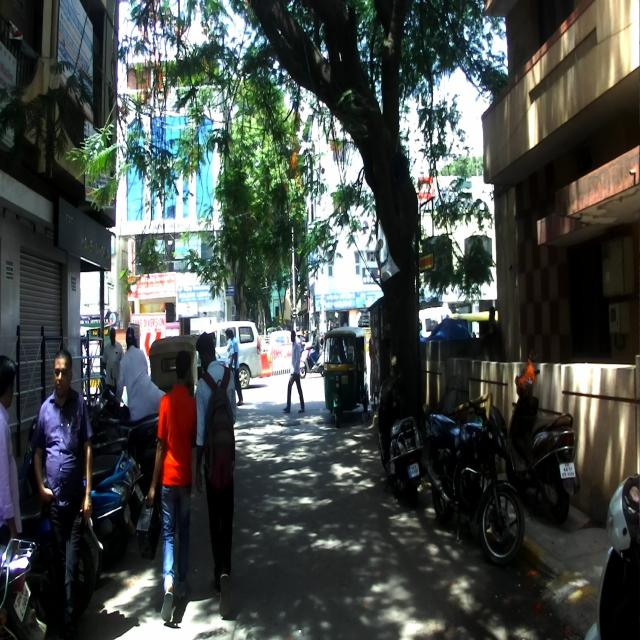Car_Toyota: (195, 321, 262, 388)
autorickshaw: (320, 327, 368, 428)
motorcycle_Hero: (0, 535, 50, 640)
motorcycle_bajaj: (424, 398, 526, 568)
scooter: (20, 422, 142, 554), (504, 350, 580, 526), (372, 352, 423, 515)
